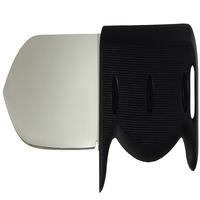knife: (2, 24, 200, 176)
